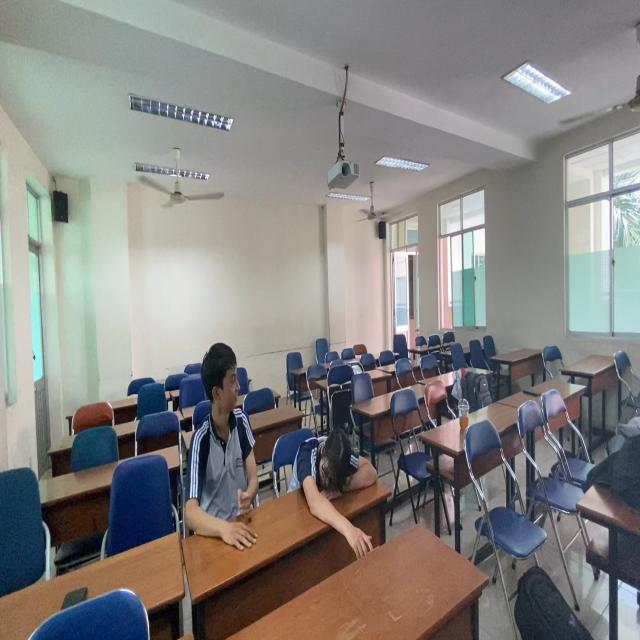sleep: (288, 413, 381, 515)
